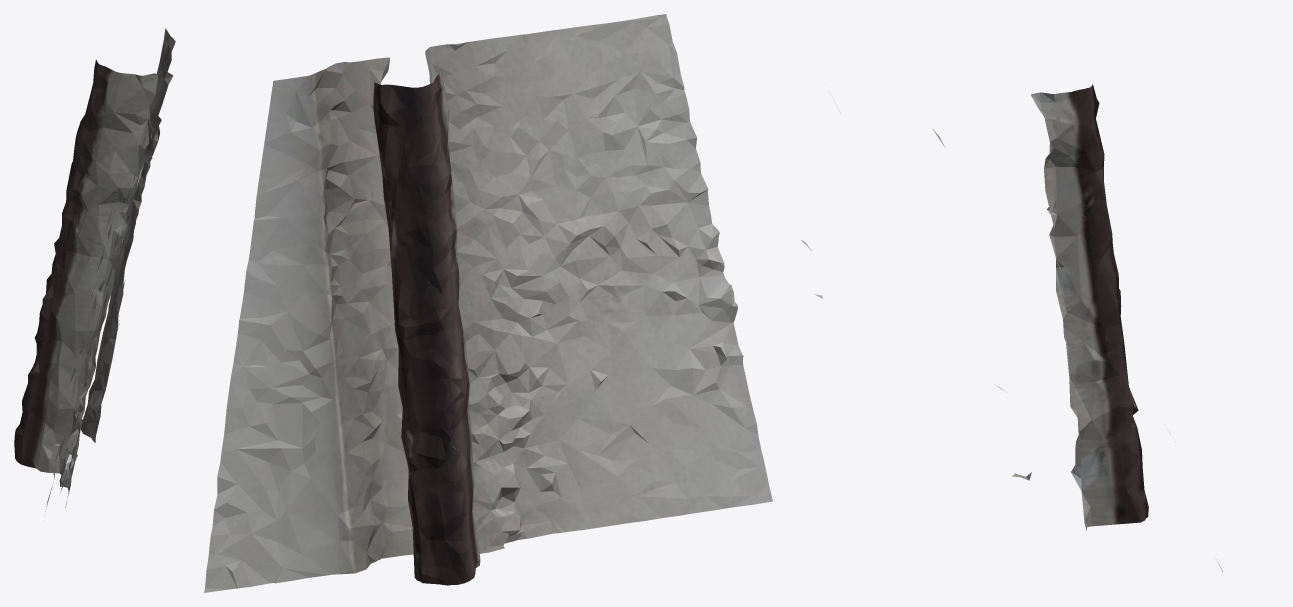
The picture shows the model from 3 angles, left to right: view 1: azimuth 30°, elevation 25°; view 2: azimuth 150°, elevation 25°; view 3: azimuth 270°, elevation 25°; orthographic projection. The views are drawn at different scales.
Size of the model in its own units: 0.6322 by 0.8374 by 0.7763.
Materials: 4 (4 with a texture image).
